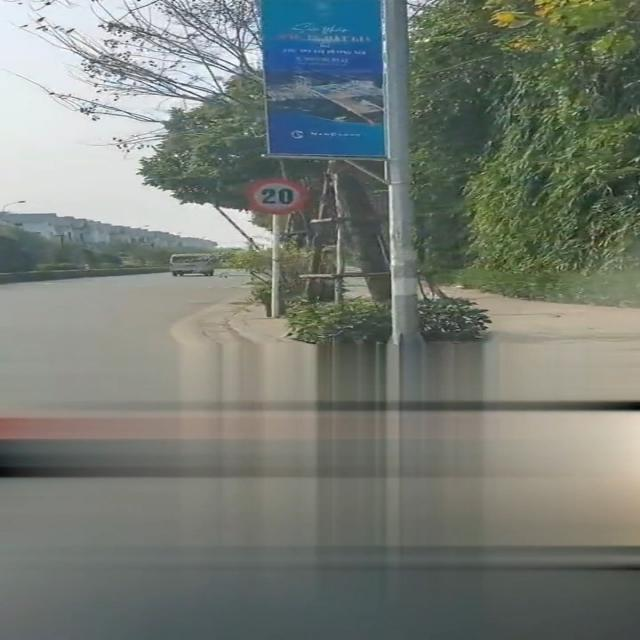127-toc-do-toi-da-20: (245, 178, 308, 215)
